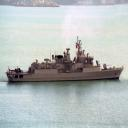Fragata: (6, 35, 126, 85)
